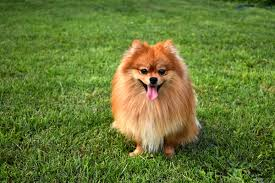dog: (109, 37, 202, 158)
